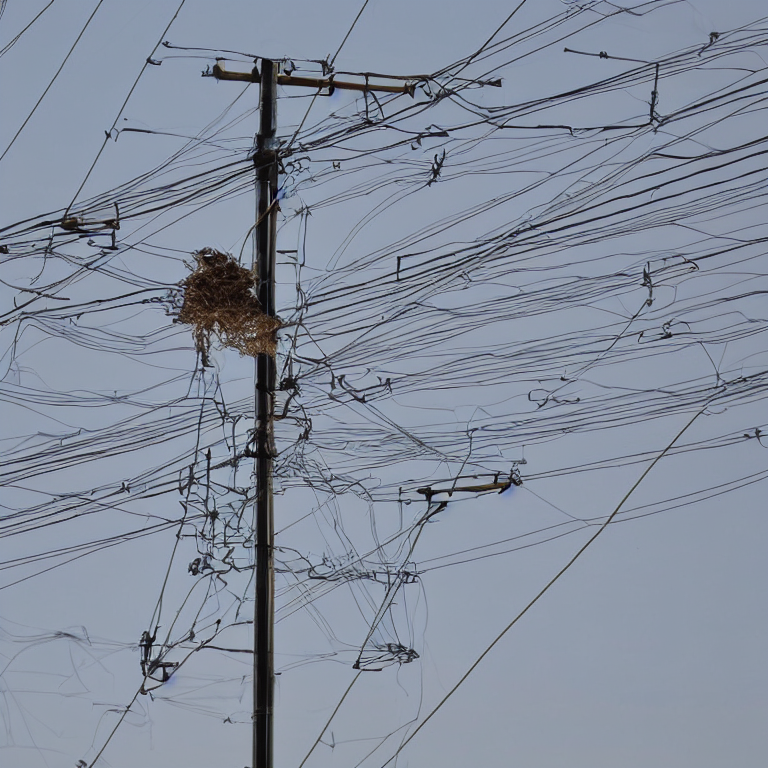nest: (188, 249, 270, 348)
